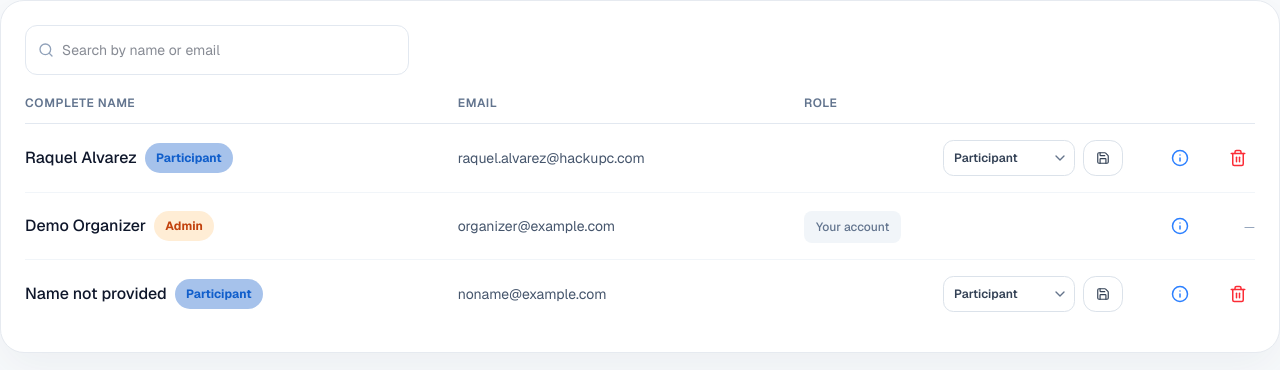
Test: UsersTable › filters as you type, matching by name, case-insensitively
The width and height of the screenshot is (1280, 370).
Type "raquel" into the search field named "Search users by name or email" at x=229, y=50, box left=62, top=26, right=396, bottom=74
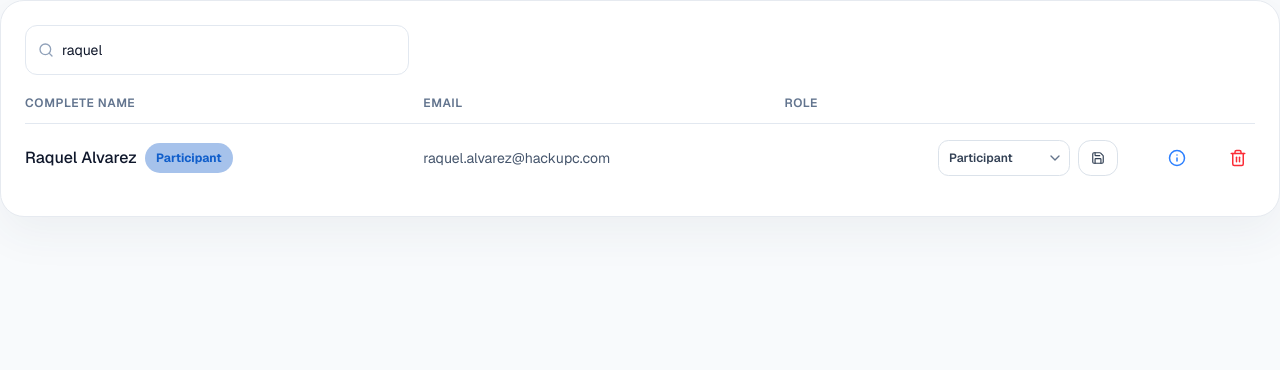
Expected: the text "Raquel Alvarez" is shown, left=25, top=146, right=137, bottom=170
Expected: the text "Demo Organizer" is gone
